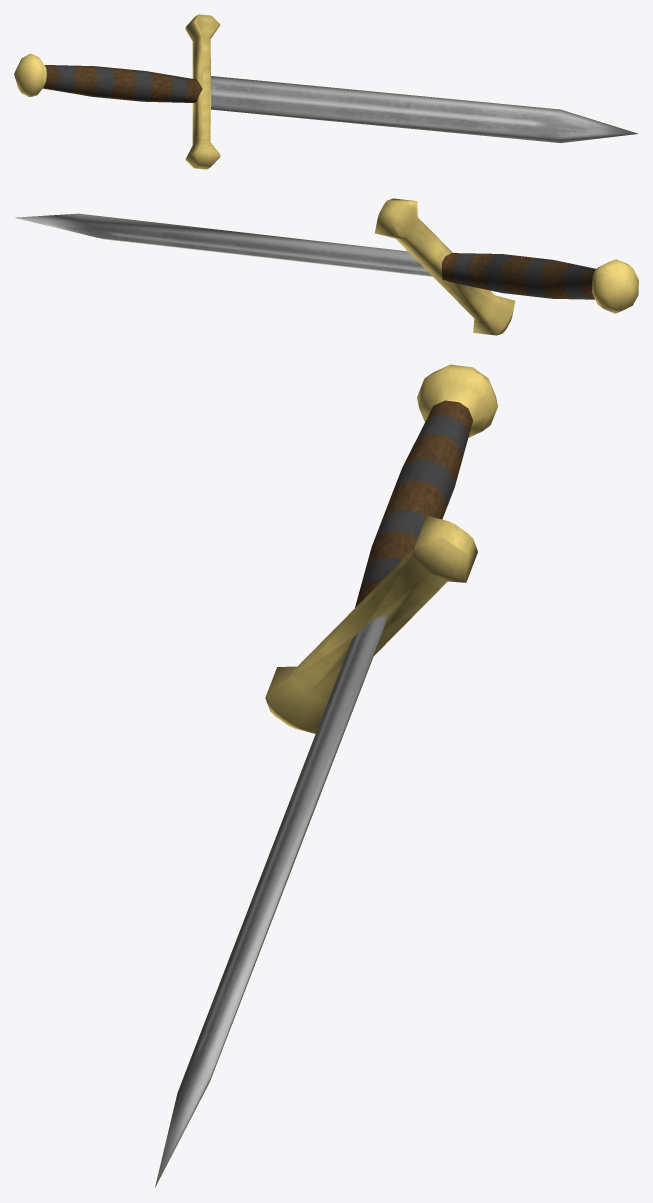
Rendered from sword.fbx.
3 views of the same model, one above another, from view 1: azimuth 30°, elevation 25°; view 2: azimuth 150°, elevation 25°; view 3: azimuth 270°, elevation 25° (orthographic). The views are drawn at different scales.
Visible parts, largest first — view 1: Cylinder; view 2: Cylinder; view 3: Cylinder.
Part boxes in pixels (x1=…): Cylinder: x1=14, y1=14, x2=638, y2=169; Cylinder: x1=15, y1=198, x2=638, y2=335; Cylinder: x1=155, y1=364, x2=497, y2=1187.
Bounding box in the file's own units: 30.35 × 8.21 × 8.25.
